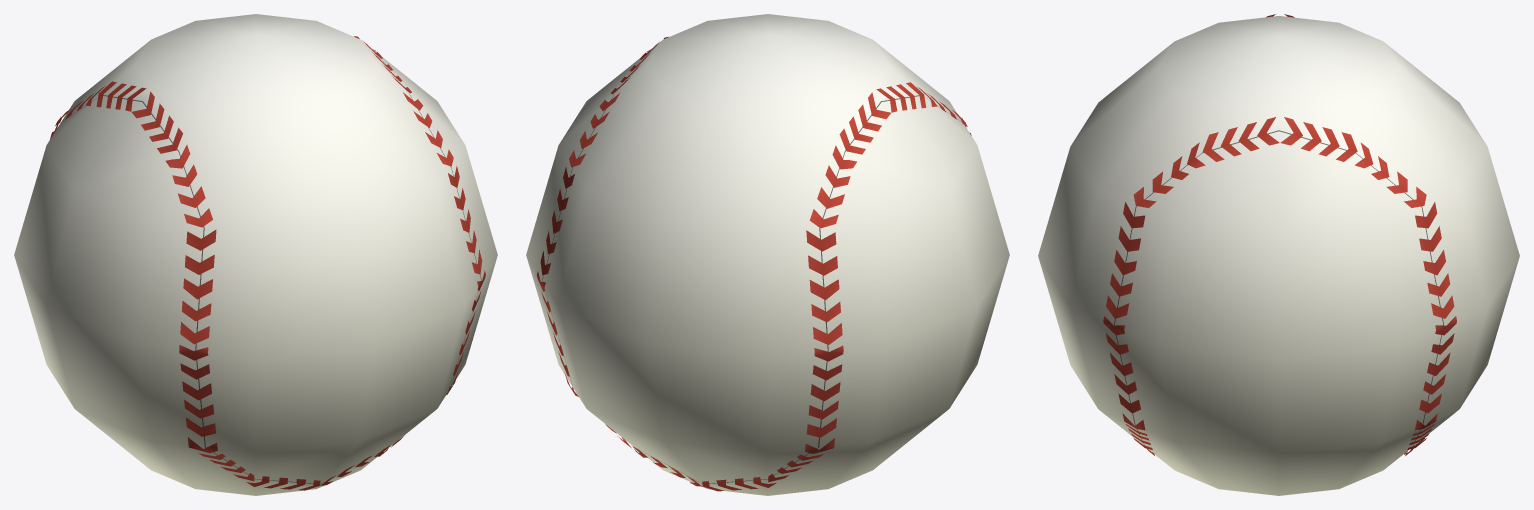
The model's file is CR_BaseBall.FBX.
3 views of the same model, side by side, from view 1: azimuth 30°, elevation 25°; view 2: azimuth 150°, elevation 25°; view 3: azimuth 270°, elevation 25° (orthographic).
Parts seen in each view (by area): view 1: CR_BaseBall; view 2: CR_BaseBall; view 3: CR_BaseBall.
Boxes of the visible parts, x1,y1,x2,y2 form: CR_BaseBall: (14, 14, 497, 495); CR_BaseBall: (526, 14, 1009, 495); CR_BaseBall: (1038, 14, 1519, 495).
Bounding box in the file's own units: 7.07 × 7.07 × 7.07.
1 material, 1 textured.
